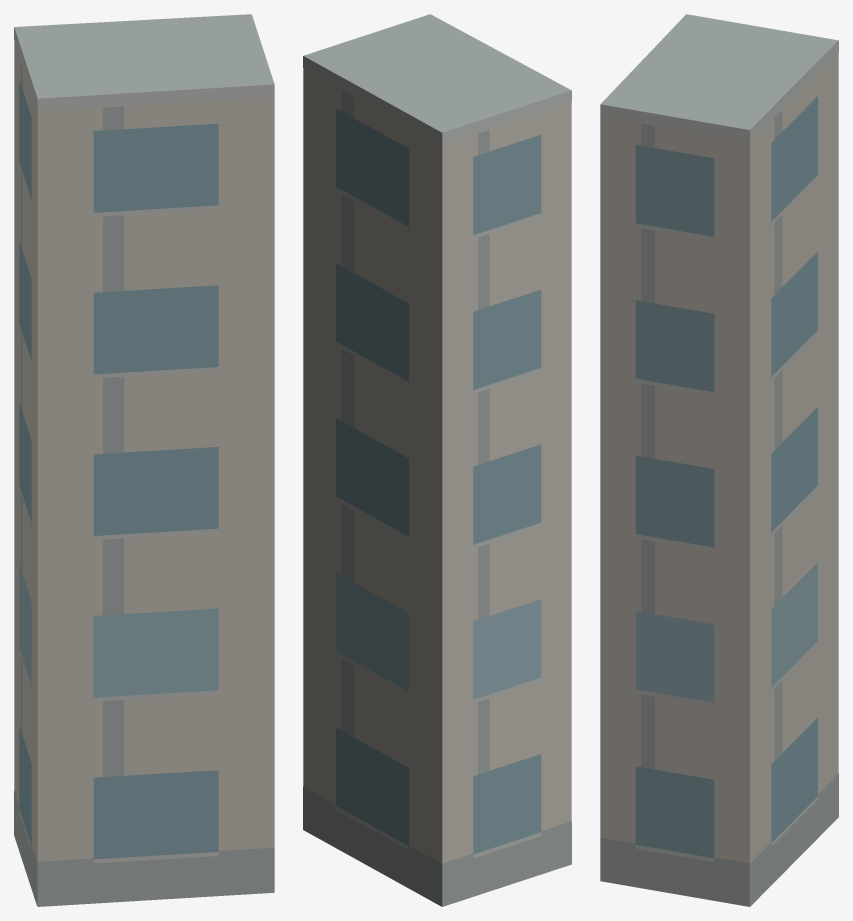
File: survey-upis-32739675.glb
3 views of the same model, side by side, from view 1: azimuth 30°, elevation 25°; view 2: azimuth 150°, elevation 25°; view 3: azimuth 270°, elevation 25° (orthographic). The views are drawn at different scales.
Visible parts, largest first — view 1: survey-upis-32739675.tmp; view 2: survey-upis-32739675.tmp; view 3: survey-upis-32739675.tmp.
Part boxes in pixels (x1,y1,x2,y2): survey-upis-32739675.tmp: (14,14,274,906); survey-upis-32739675.tmp: (303,14,571,906); survey-upis-32739675.tmp: (600,14,838,906).
Bounding box in the file's own units: 4.89 × 15.25 × 4.25.
